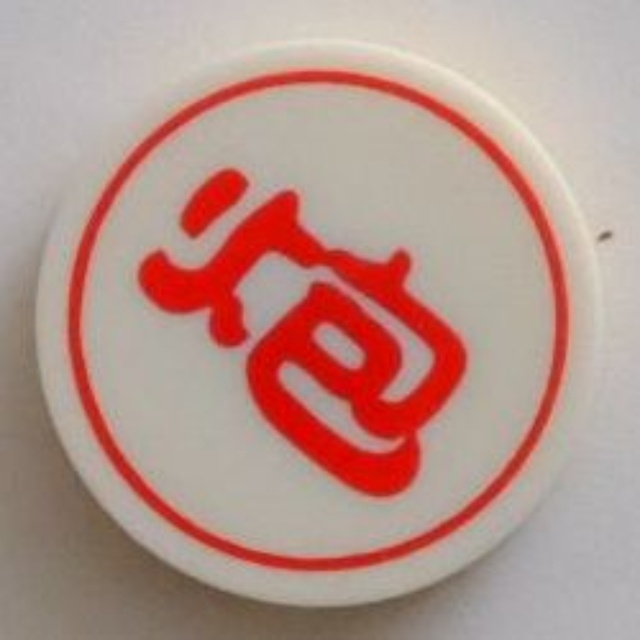red_phao: (32, 36, 608, 608)
